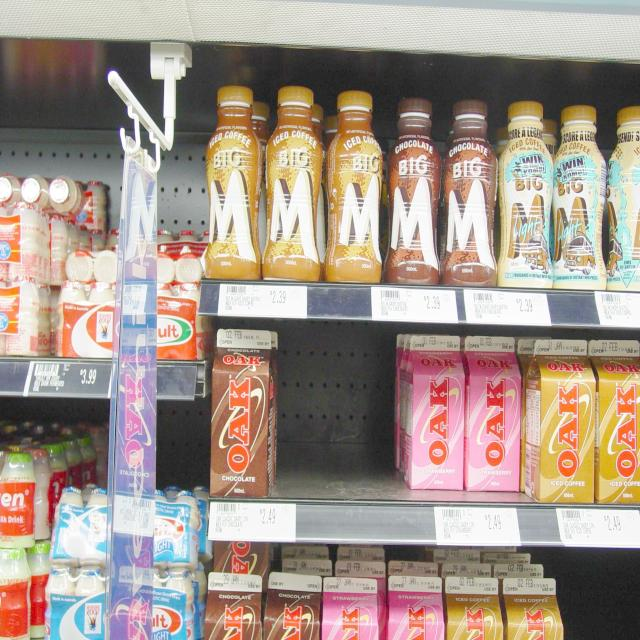empty_space: (286, 341, 394, 478), (568, 572, 640, 632)
